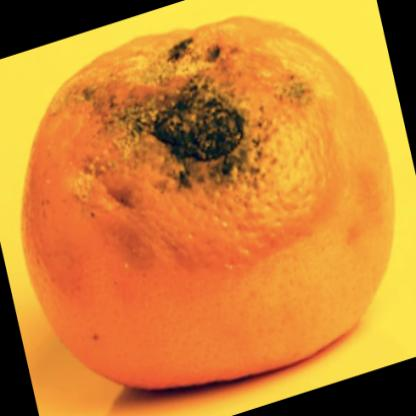rotten: (22, 18, 395, 390)
